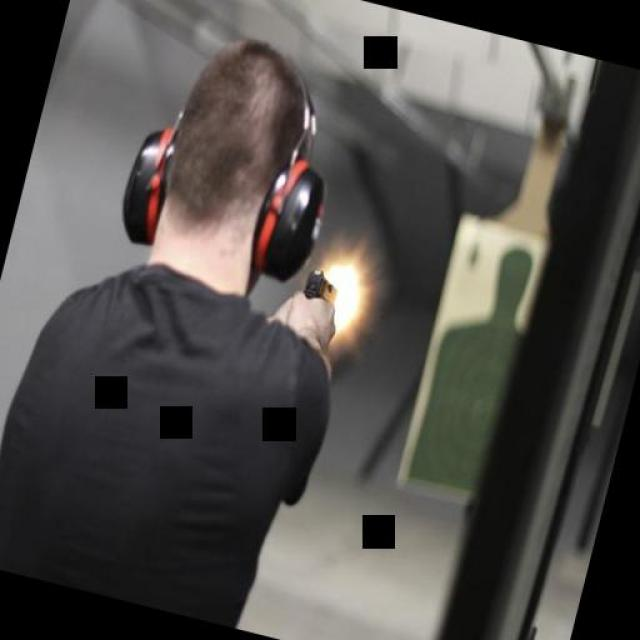gun: (288, 263, 348, 335)
